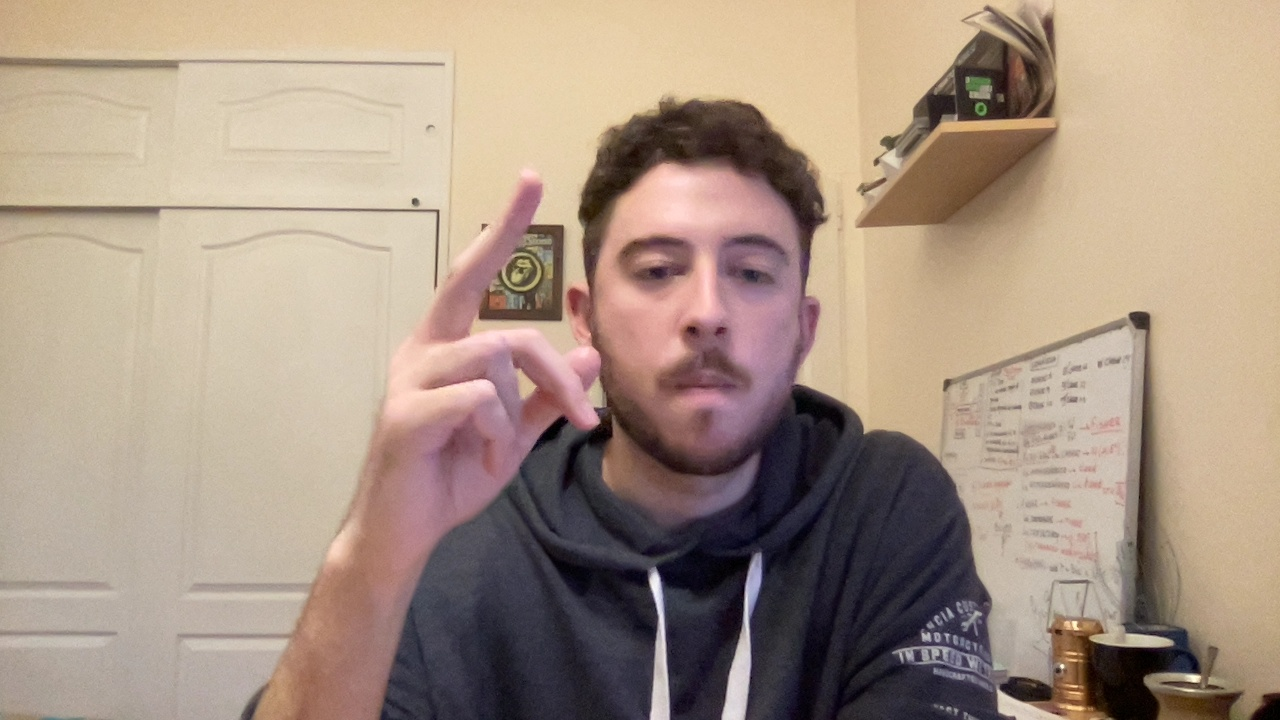mayor: (340, 166, 611, 522)
